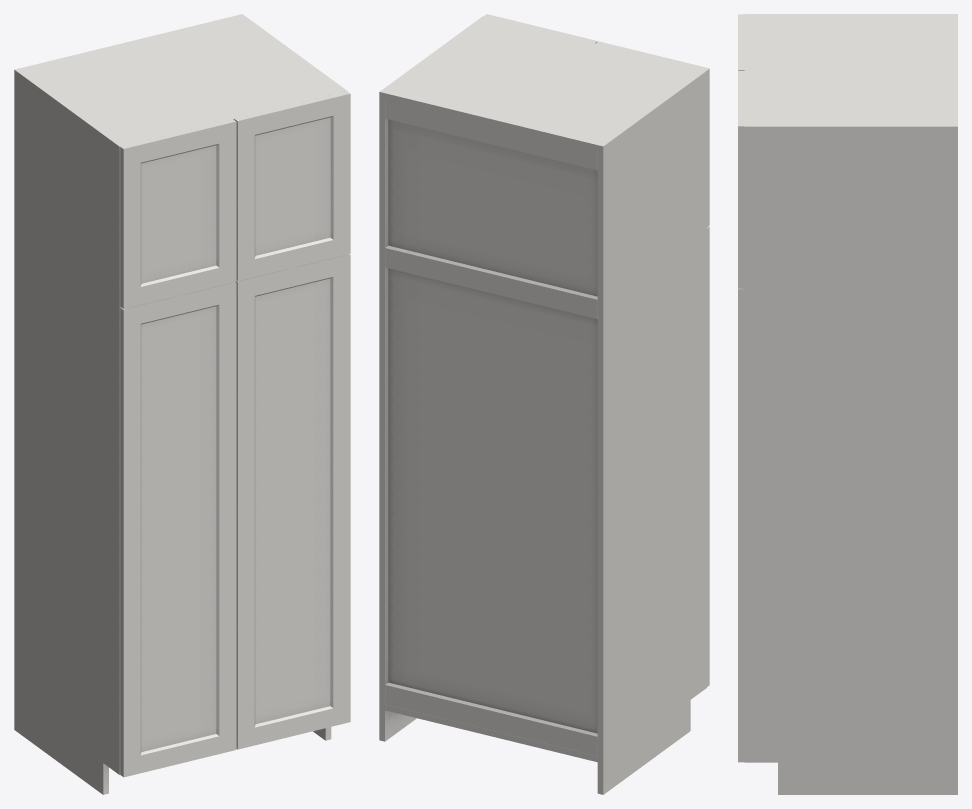
File: tall-2-door-doors-on.glb
3 views of the same model, side by side, from view 1: azimuth 30°, elevation 25°; view 2: azimuth 150°, elevation 25°; view 3: azimuth 270°, elevation 25° (orthographic). The views are drawn at different scales.
Parts seen in each view (by area): view 1: part_12, part_0; view 2: part_0, part_12; view 3: part_0, part_12.
Part boxes in pixels (x1,y1,x2,y2): part_12: (120,91,350,777); part_0: (14,14,347,794); part_0: (379,16,706,794); part_12: (484,14,709,686); part_0: (744,14,957,794); part_12: (738,14,744,762).
Bounding box in the file's own units: 0.7621 × 2.11 × 0.6287.
Materials: 2 (2 with a texture image).
